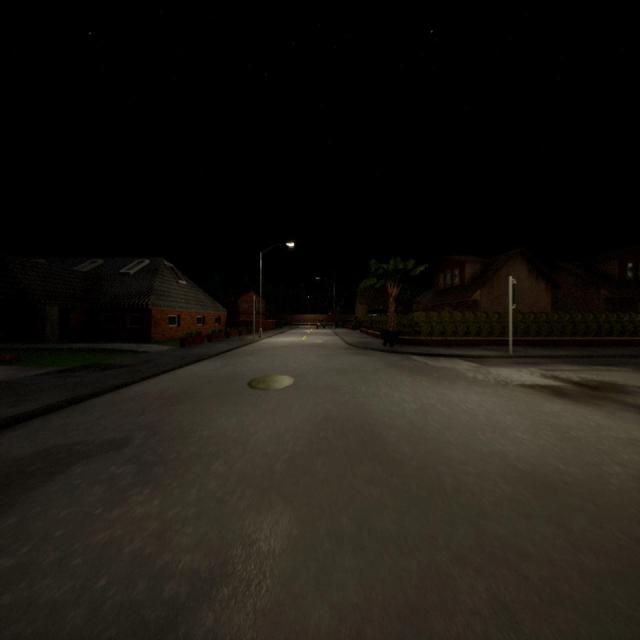Vehicle: (316, 319, 326, 329)
traffic_light: (512, 283, 518, 304), (328, 312, 331, 318)
